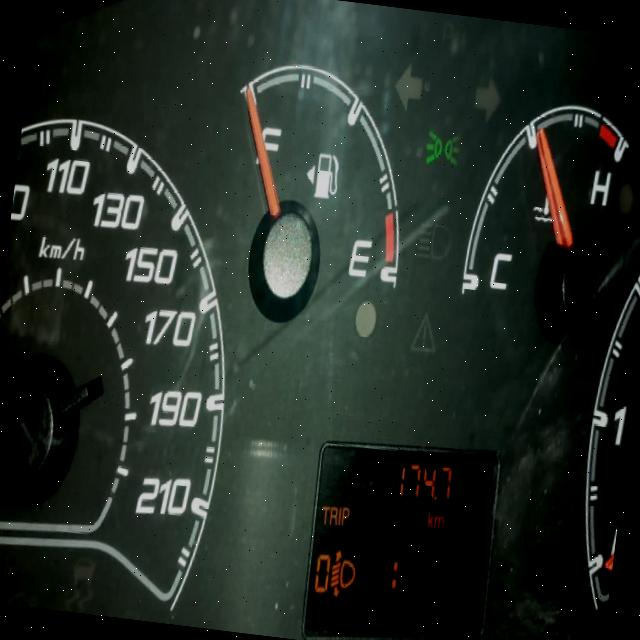odometer: (294, 430, 514, 640)
